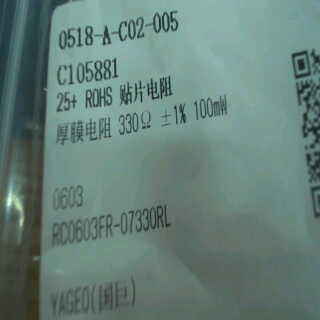330R: (112, 107, 156, 138)
